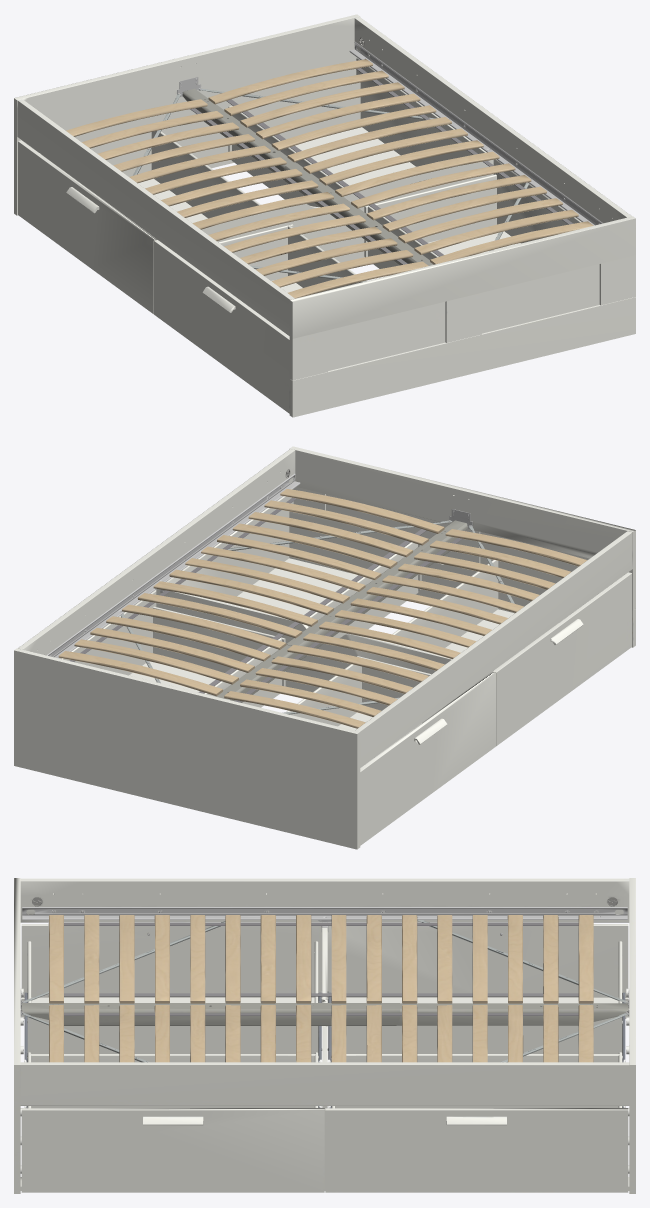
Rendered from ikea-brimnes-bed.glb.
3 views of the same model, one above another, from view 1: azimuth 30°, elevation 25°; view 2: azimuth 150°, elevation 25°; view 3: azimuth 270°, elevation 25° (orthographic). The views are drawn at different scales.
Visible parts, largest first — view 1: Mesh_0; view 2: Mesh_0; view 3: Mesh_0.
Part boxes in pixels (x1,y1,x2,y2): Mesh_0: (14,14,635,417); Mesh_0: (14,446,635,849); Mesh_0: (14,878,635,1193).
Size of the model in its own units: 1.51 by 0.4696 by 2.05.
Materials: 1 (1 with a texture image).
